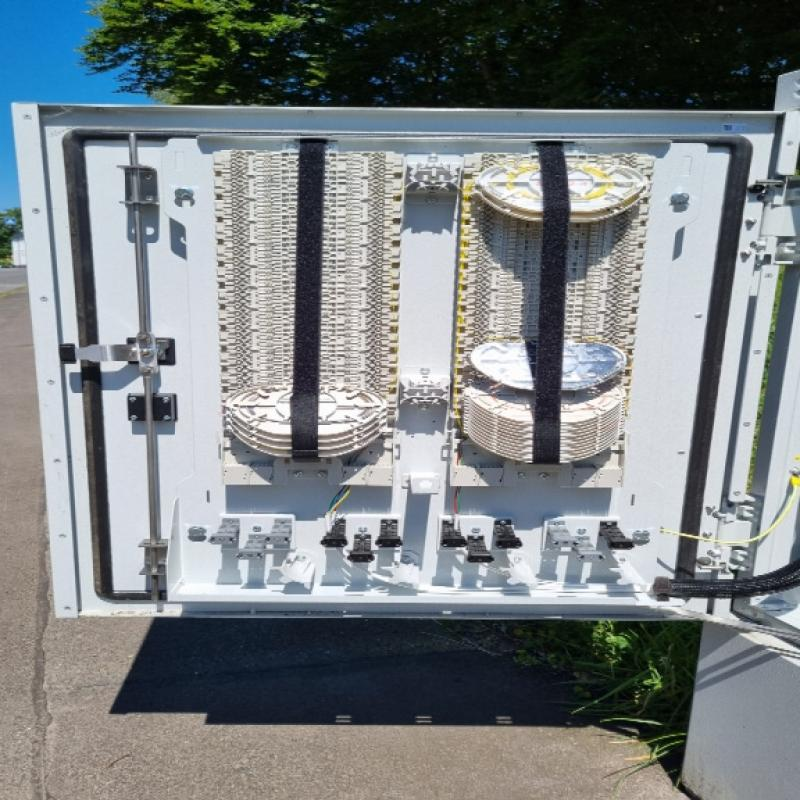NT-Gehause: (11, 69, 795, 798)
Spleiskassetten: (447, 142, 656, 466), (206, 138, 410, 467)
